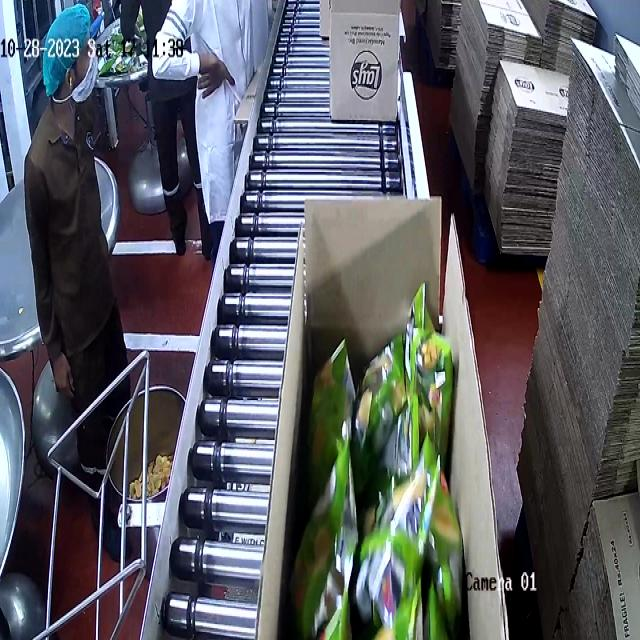YOGURT_HERB: (303, 311, 464, 640)
